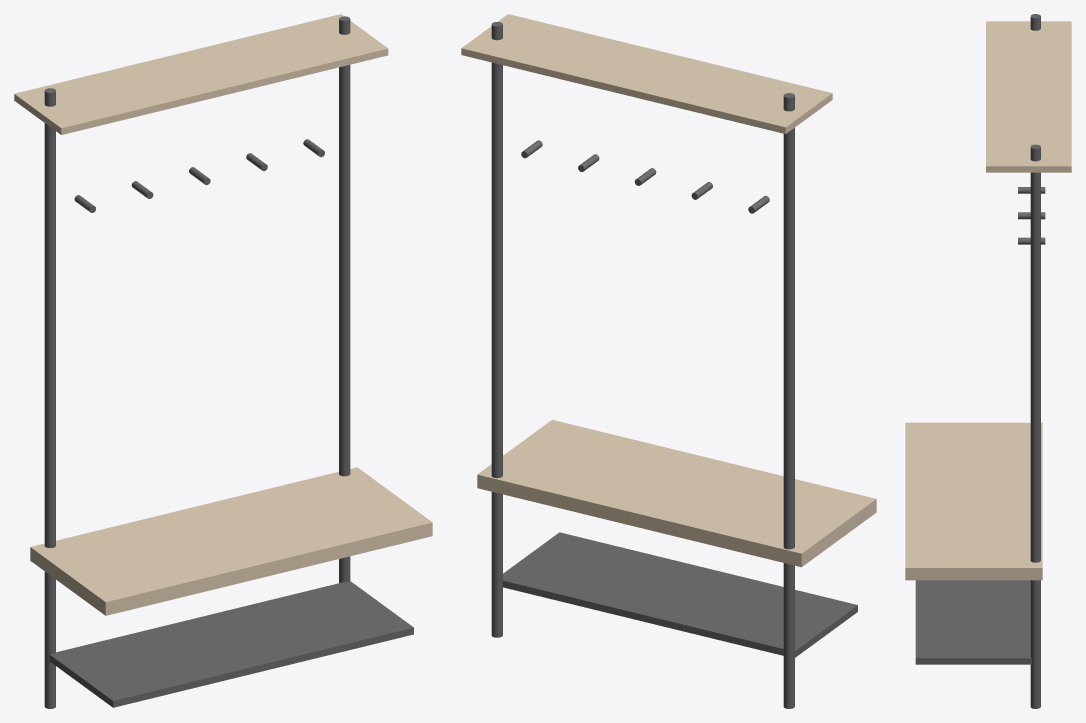
The model's file is STG-004.glb.
3 renders of one model, left to right at view 1: azimuth 30°, elevation 25°; view 2: azimuth 150°, elevation 25°; view 3: azimuth 270°, elevation 25°, orthographic. The views are drawn at different scales.
Parts seen in each view (by area): view 1: Cube, Cube.001, Cube.002, Cylinder, Cylinder.001; view 2: Cube, Cube.001, Cube.002, Cylinder, Cylinder.001; view 3: Cube, Cube.002, Cube.001, Cylinder.001.
Boxes of the visible parts, bbox=[...] form: Cube: bbox=[30, 467, 432, 615]; Cube.001: bbox=[49, 581, 413, 707]; Cube.002: bbox=[14, 14, 388, 134]; Cylinder: bbox=[44, 88, 55, 708]; Cylinder.001: bbox=[339, 16, 350, 582]; Cube: bbox=[477, 419, 876, 567]; Cube.001: bbox=[503, 532, 857, 657]; Cube.002: bbox=[461, 14, 832, 133]; Cylinder: bbox=[783, 93, 794, 708]; Cylinder.001: bbox=[491, 22, 502, 637]; Cube: bbox=[905, 422, 1042, 580]; Cube.002: bbox=[986, 21, 1071, 172]; Cube.001: bbox=[915, 580, 1031, 664]; Cylinder.001: bbox=[1030, 144, 1040, 708].
Size of the model in its own units: 1 by 1.8 by 0.485.
